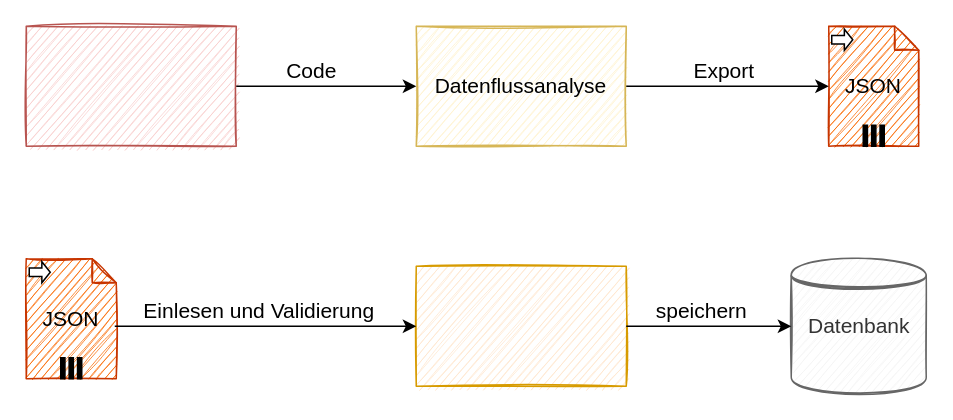
Image size: 953x420. Some labels were removed from this diagram. Each missing label, with the centre of its shape:
"FHIR Bridge" belongs at (x=130, y=85).
"Webserver" belongs at (x=520, y=325).
